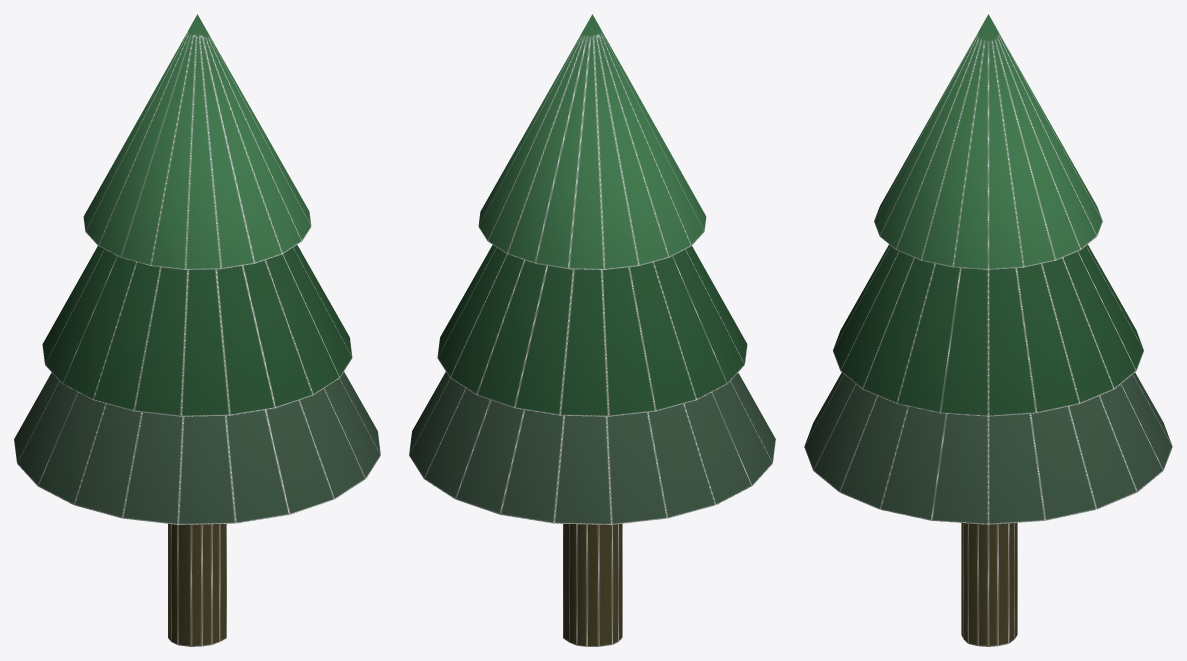
The model's file is sm_tree_2.fbx.
The picture shows the model from 3 angles, left to right: view 1: azimuth 30°, elevation 25°; view 2: azimuth 150°, elevation 25°; view 3: azimuth 270°, elevation 25°; orthographic projection.
Visible parts, largest first — view 1: Tree_2; view 2: Tree_2; view 3: Tree_2.
Part boxes in pixels (<box>): Tree_2: <box>14,14,380,646</box>; Tree_2: <box>409,14,775,646</box>; Tree_2: <box>804,14,1172,646</box>.
Bounding box in the file's own units: 269 × 500 × 269.
